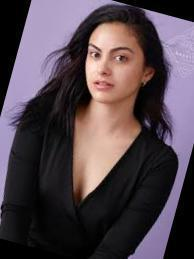Sober: (87, 31, 137, 100)
